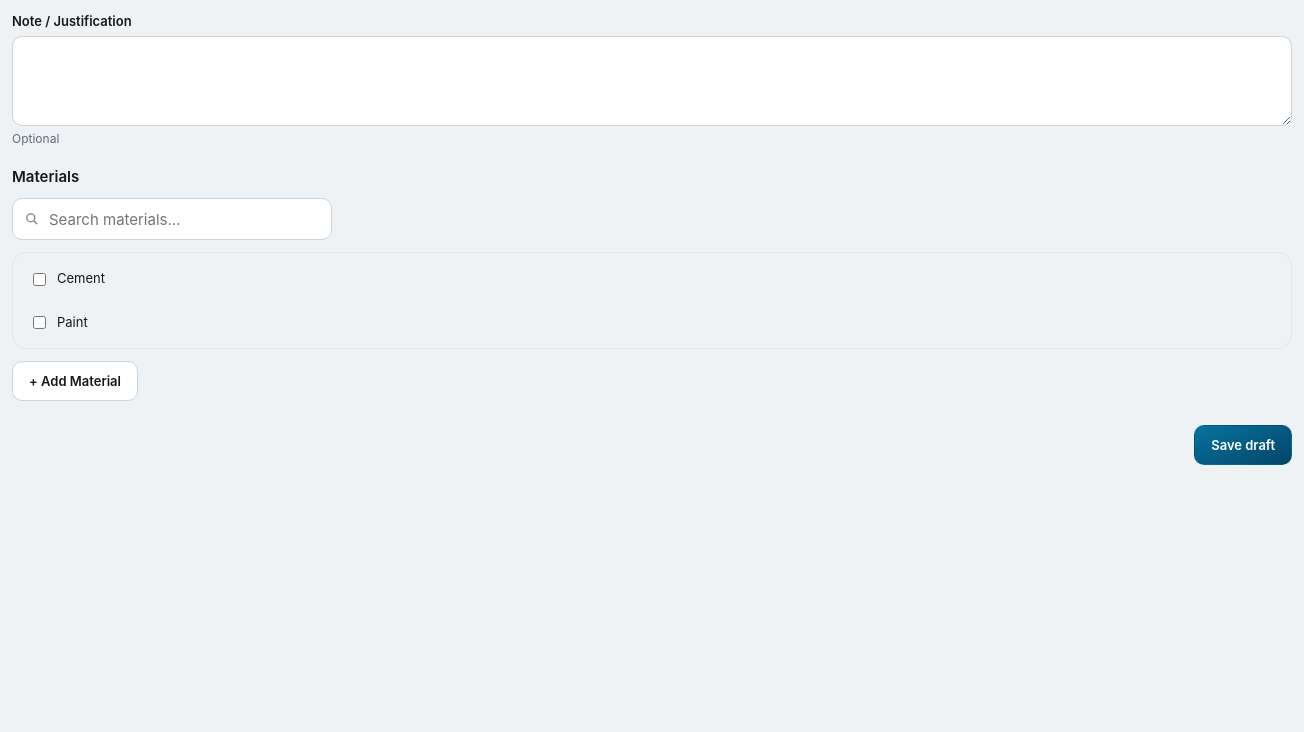
DemandForm — catalog picker › a selected item with quantity 0 is reported, never silently dropped
Click the checkbox labelled "Cement".
click(40, 279)  # box x1=33 y1=272 x2=46 y2=286
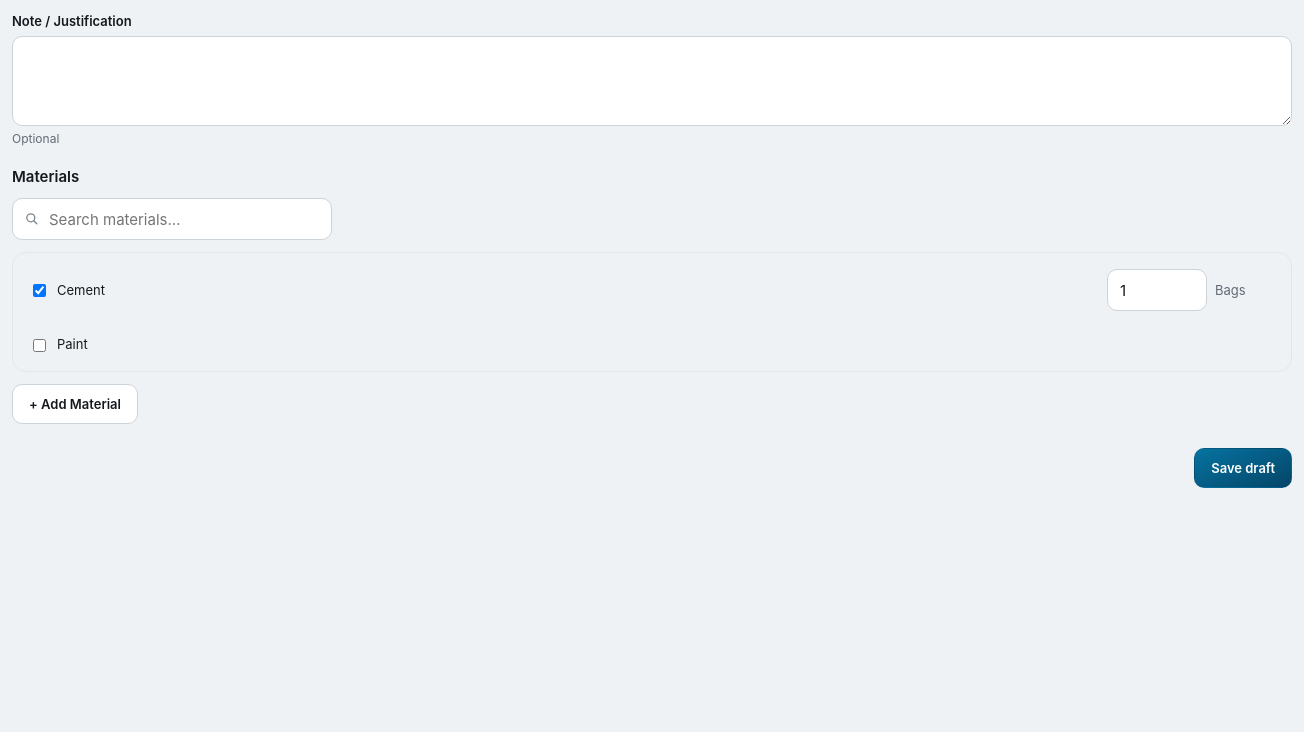
Replace the text in the number field named "Quantity for Cement" with "50" at (1157, 290), box x1=1107 y1=269 x2=1207 y2=311
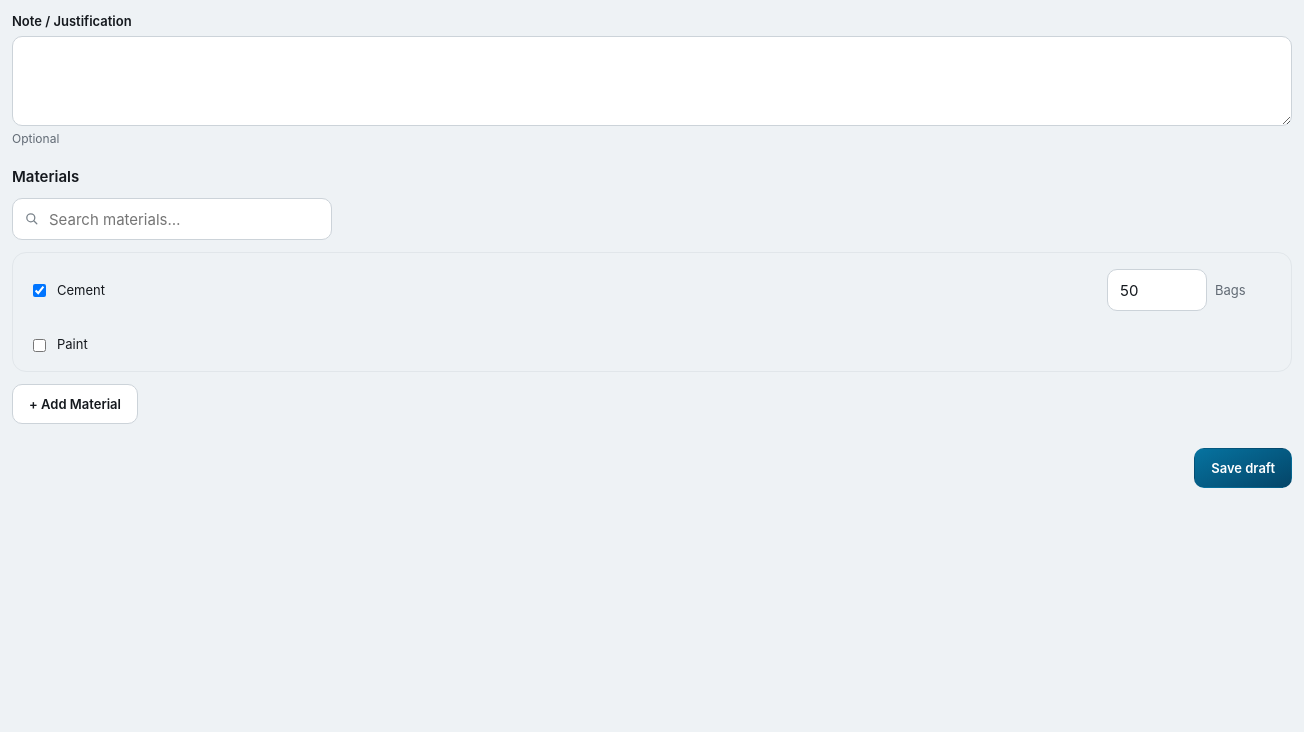
Click the checkbox labelled "Paint".
click(40, 345)  # box x1=33 y1=338 x2=46 y2=352
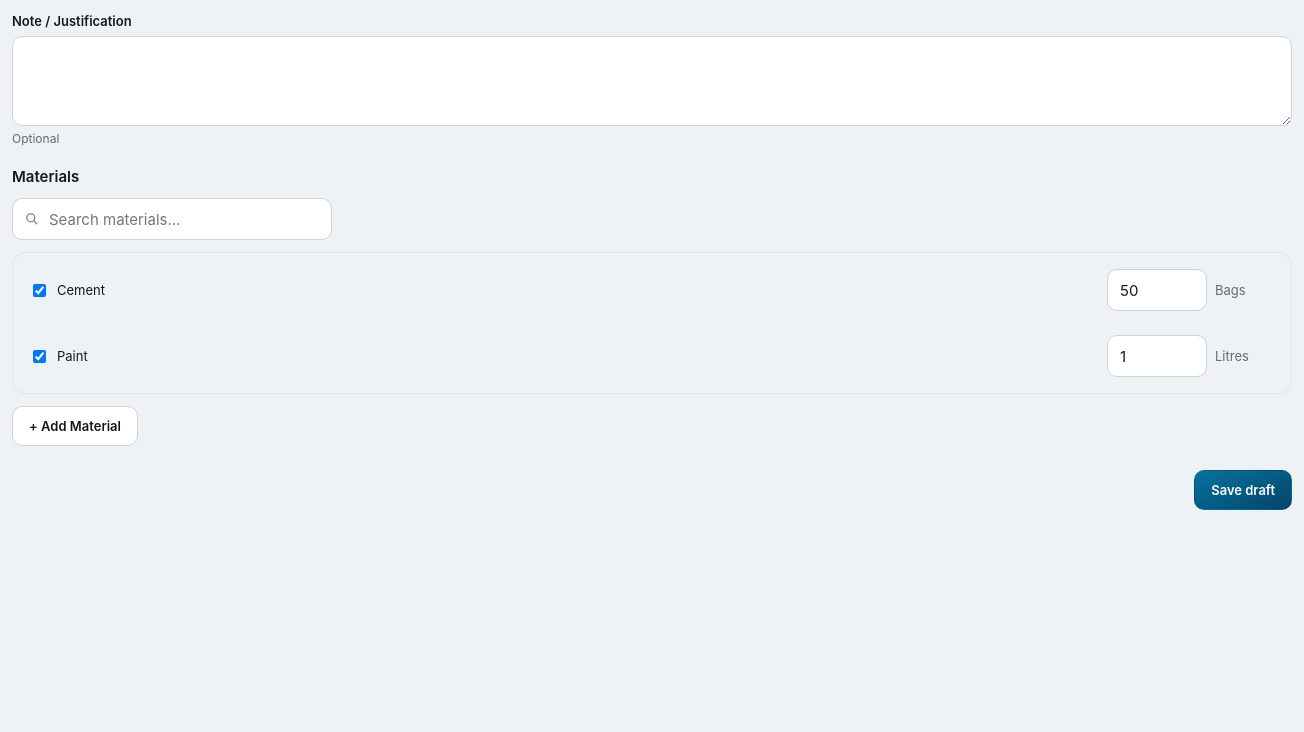
Replace the text in the number field named "Quantity for Paint" with "0" at (1157, 356), box x1=1107 y1=335 x2=1207 y2=377
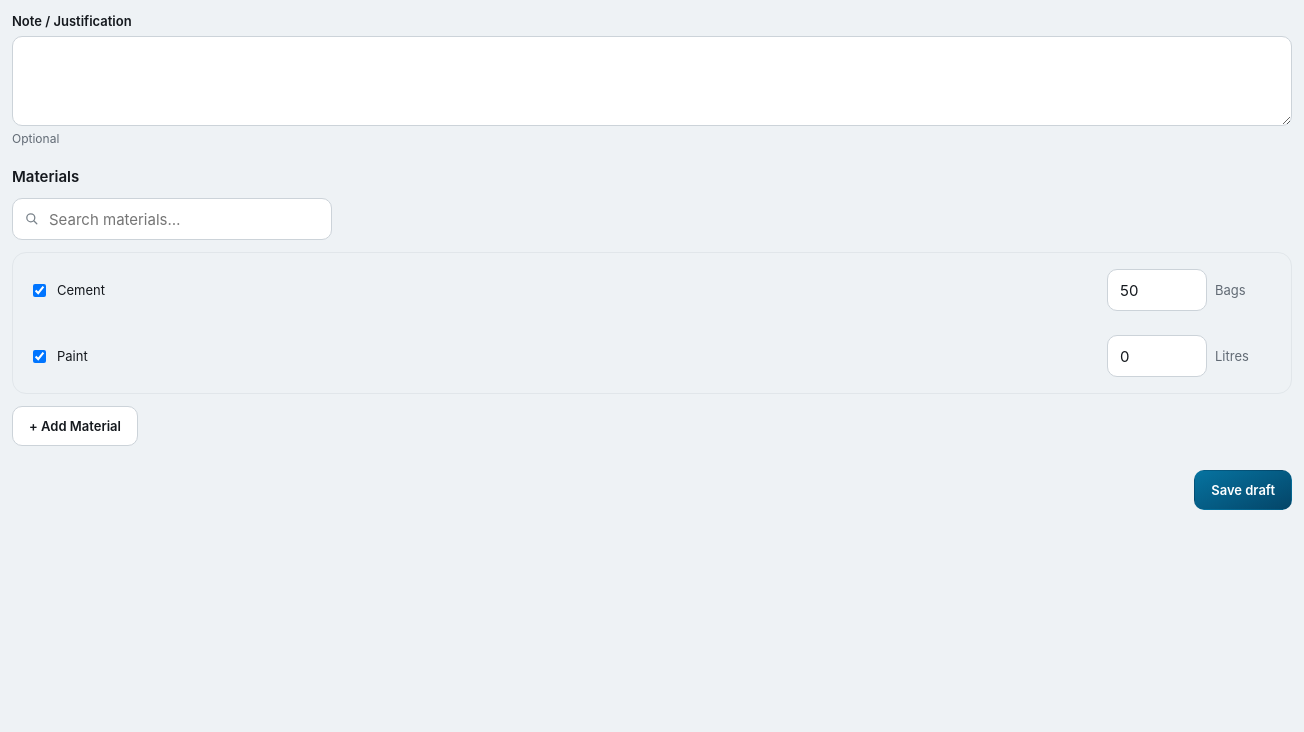
Click the button "Save draft".
click(1243, 490)  # box x1=1194 y1=470 x2=1292 y2=510
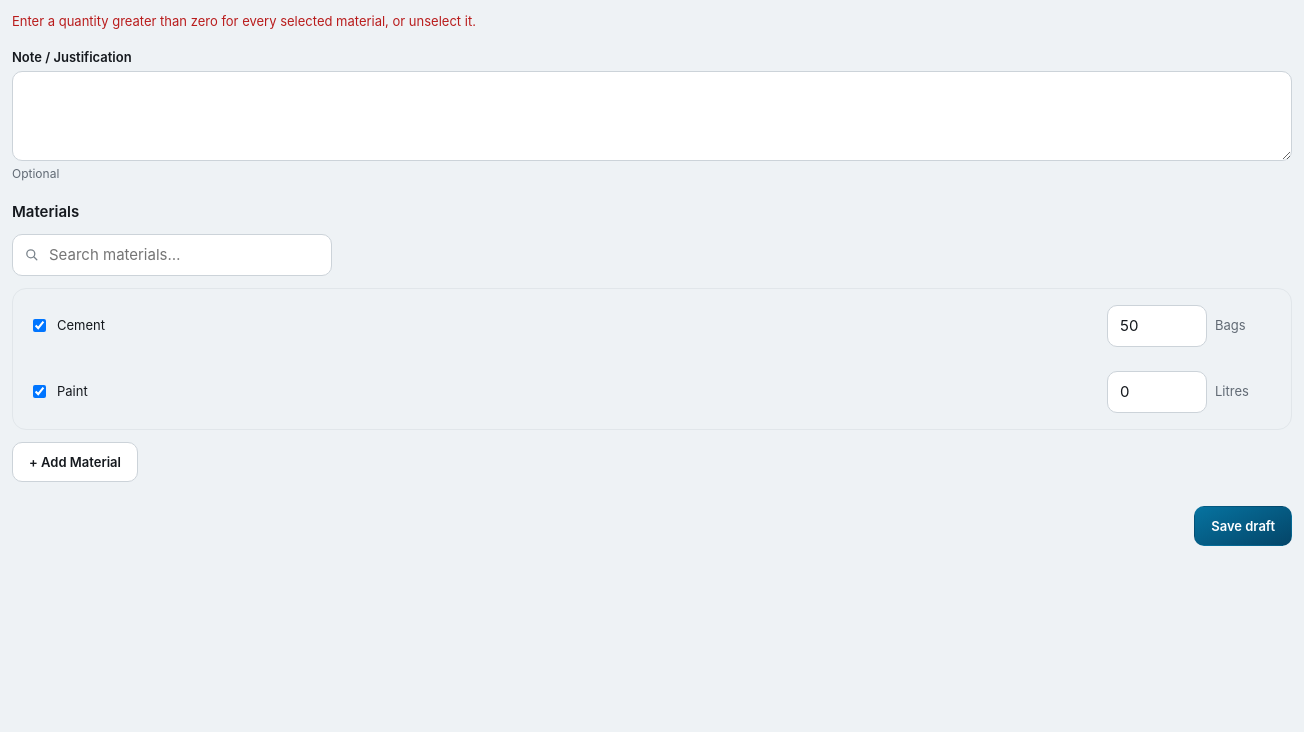
Expected: the message shows "quantity greater than zero", x1=12 y1=13 x2=476 y2=29
